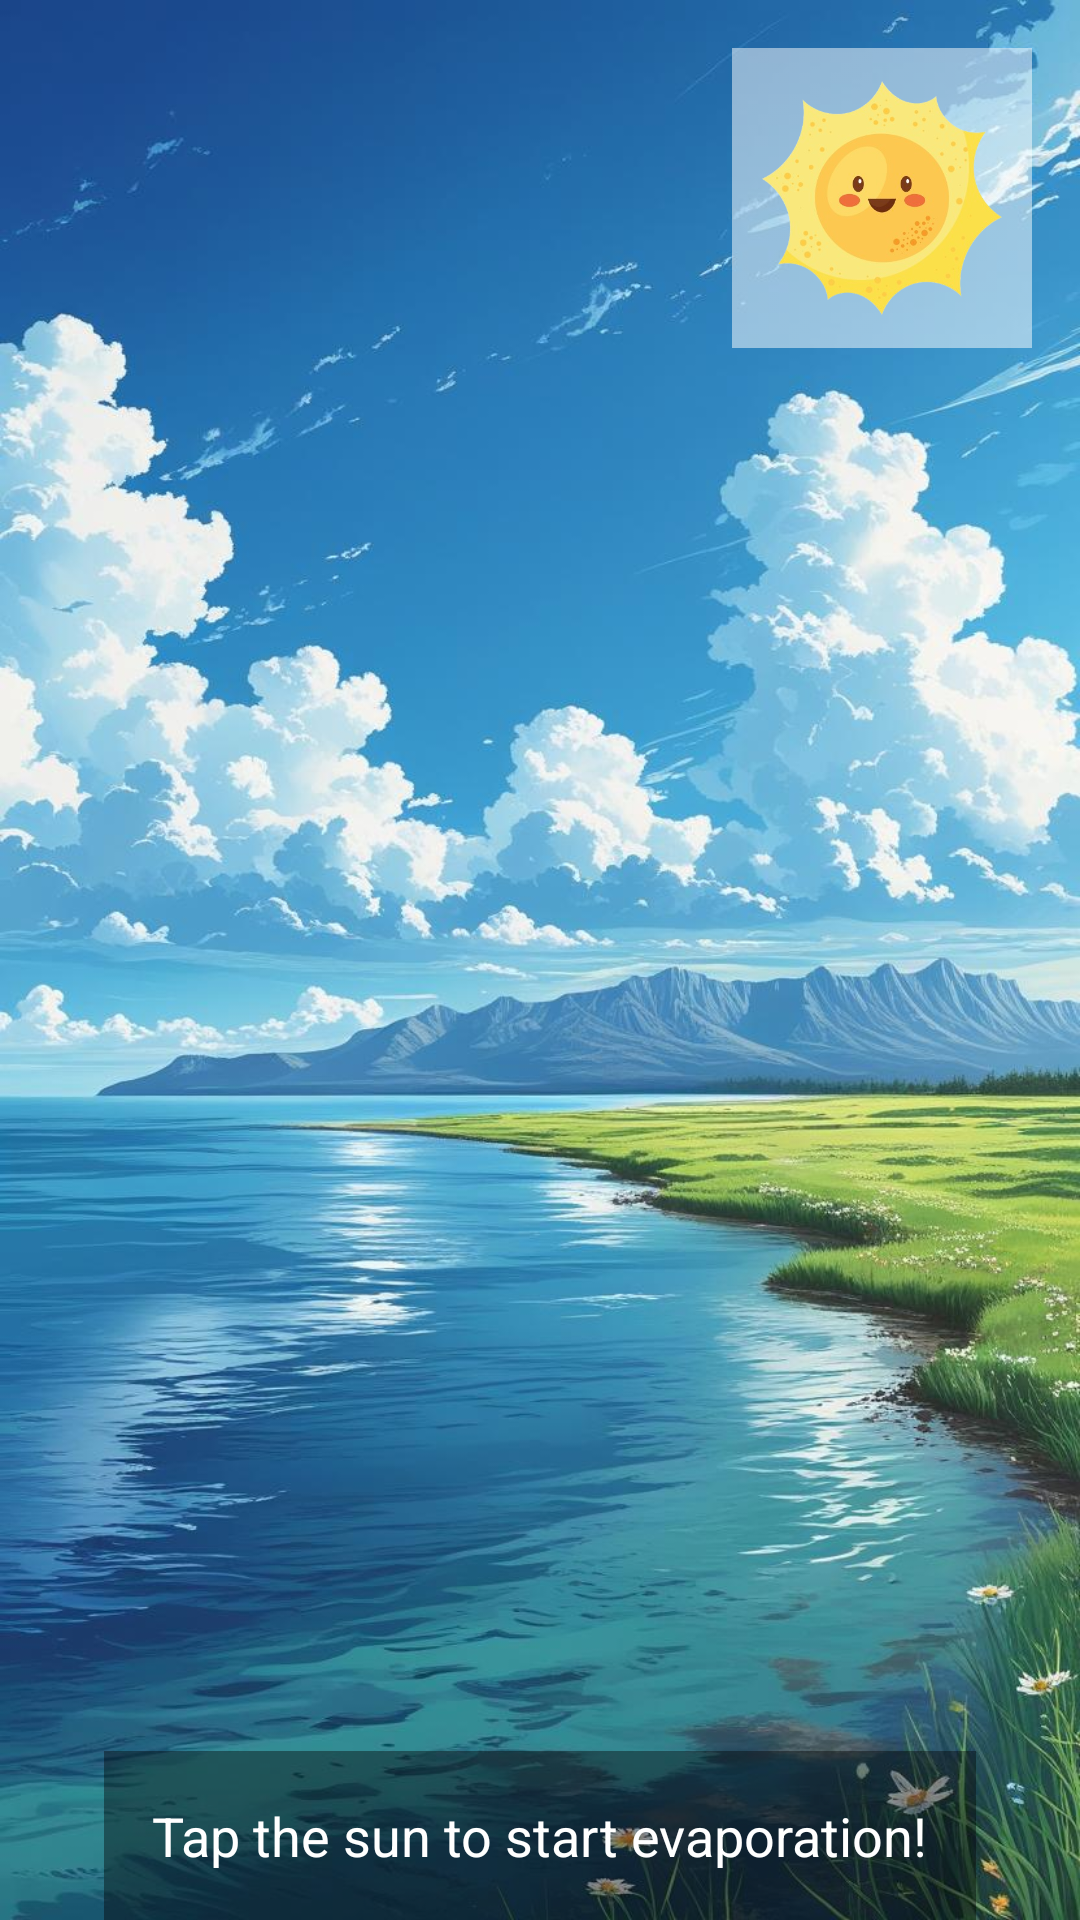

Named icons in this screenshot (1080x1920) and their centers, [x,y]:
Sun: [882,198]
